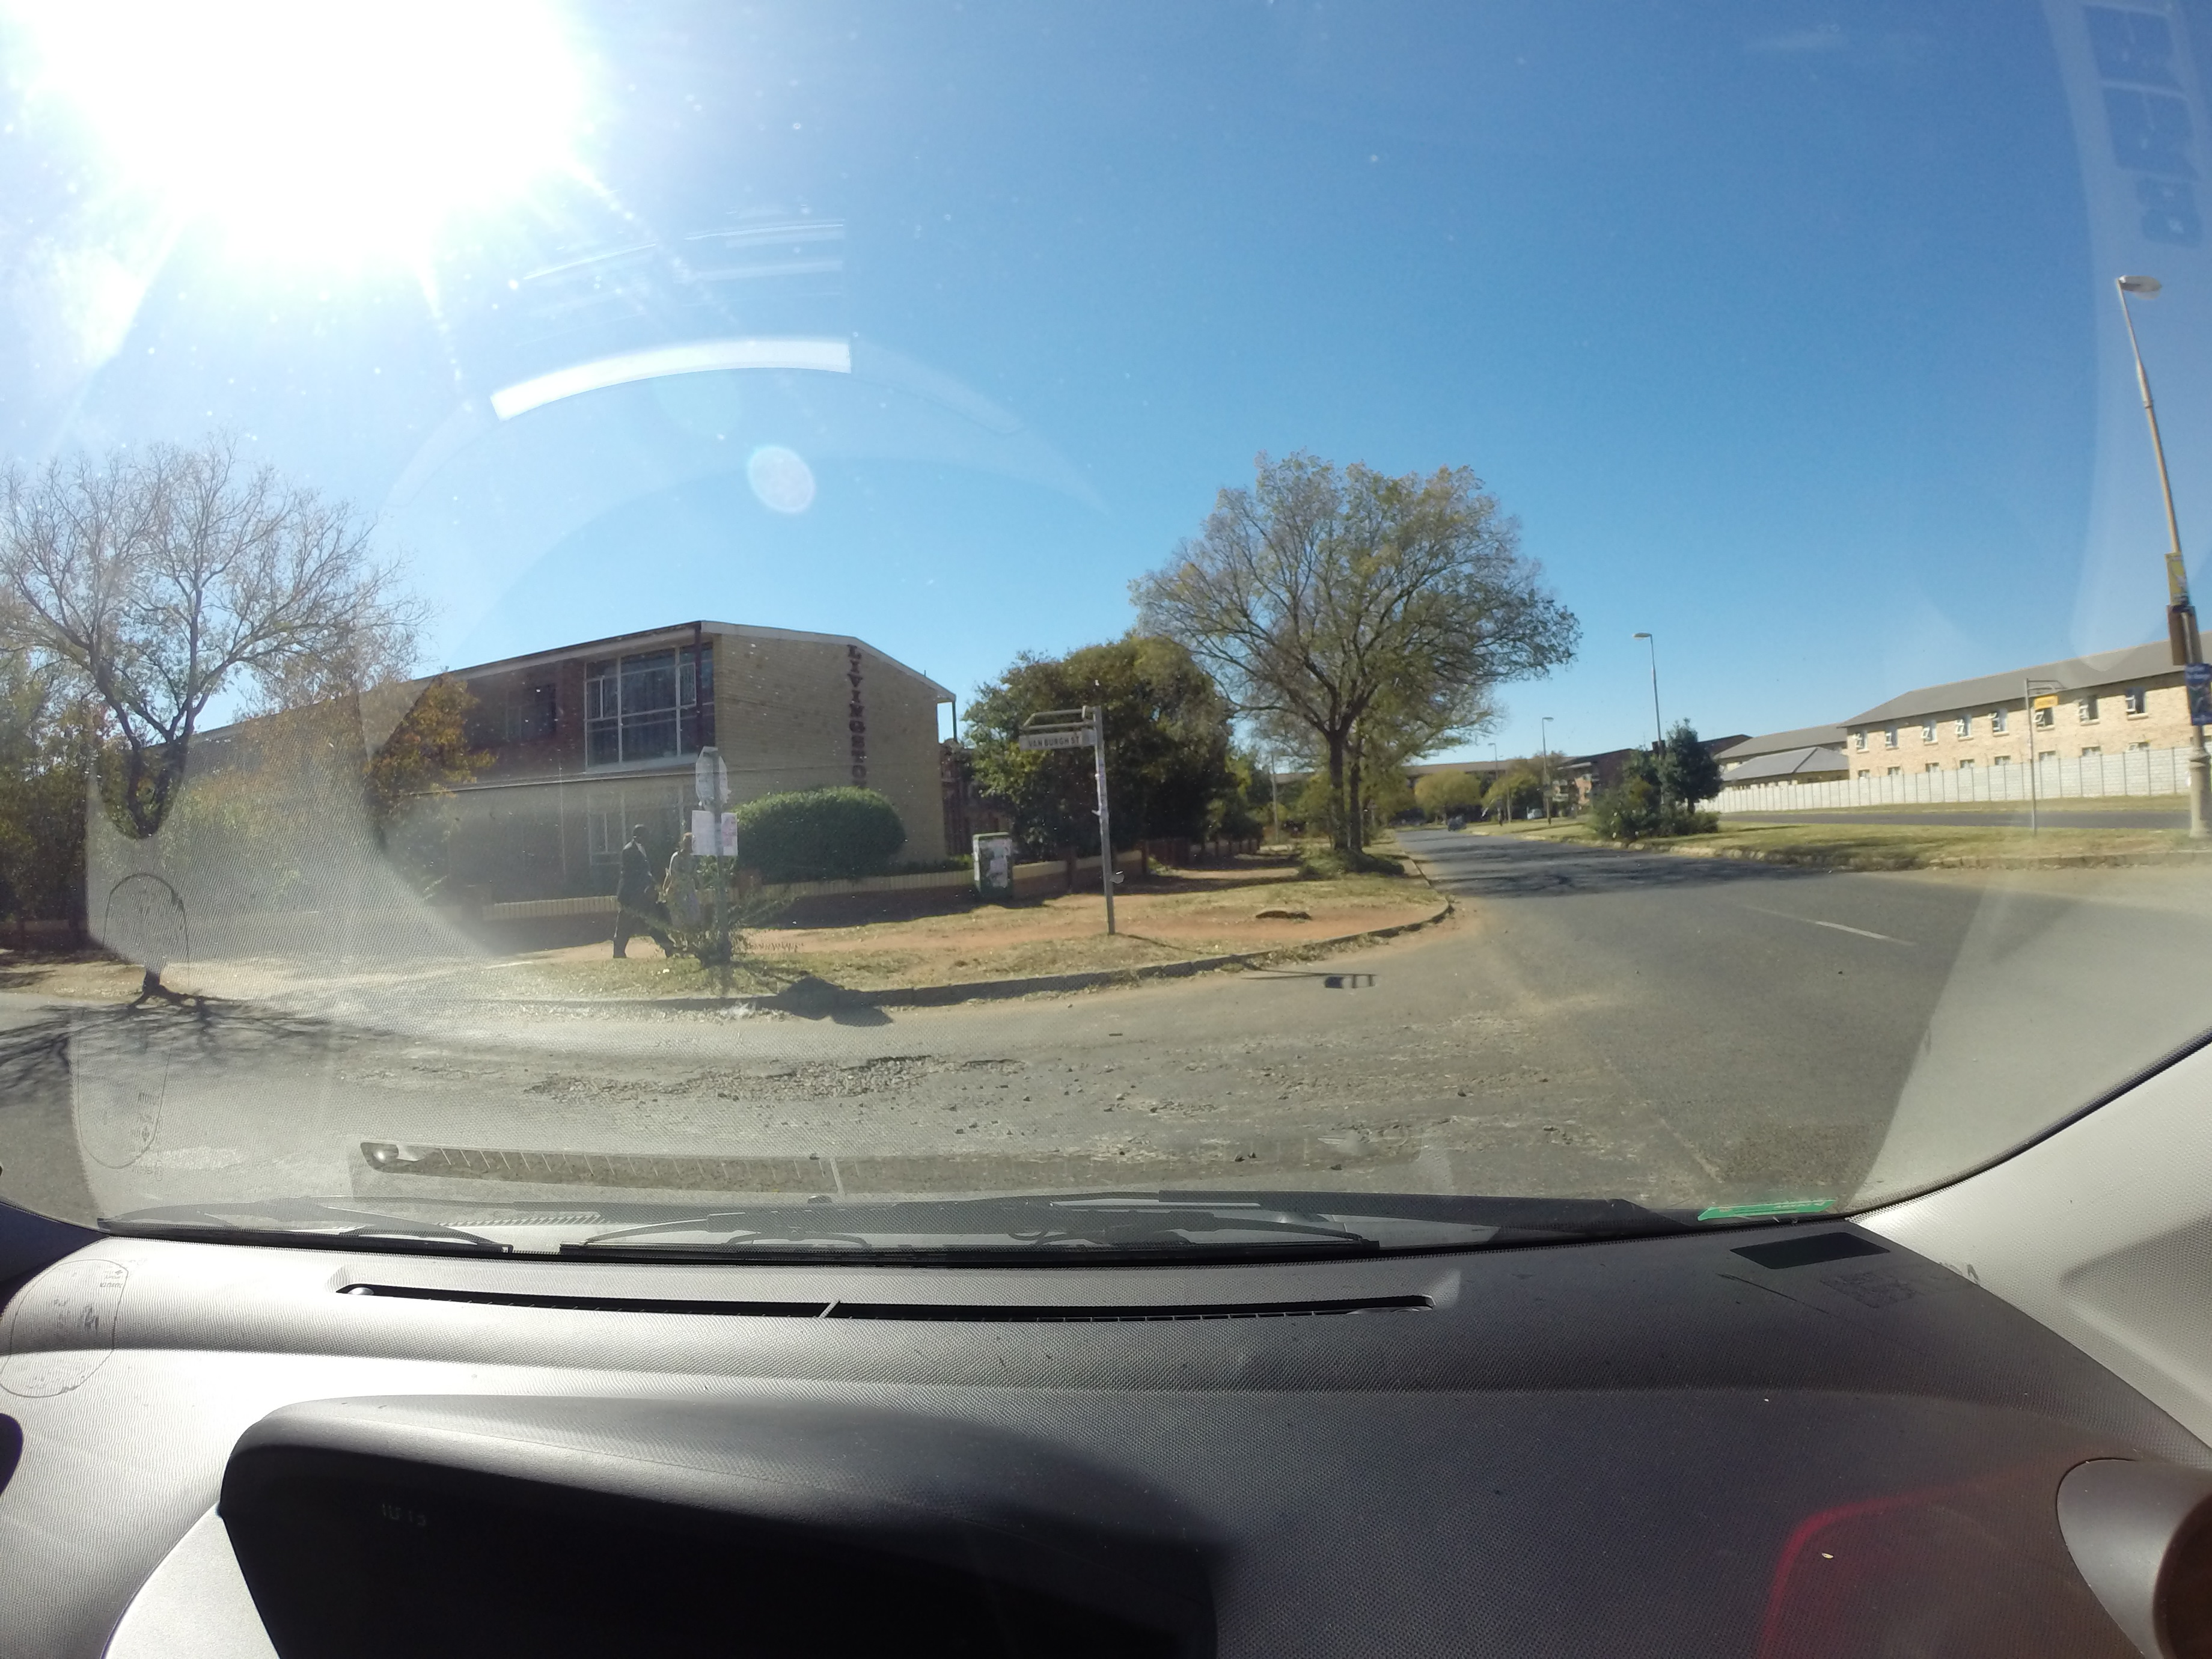pothole: (503, 1040, 1148, 1155)
